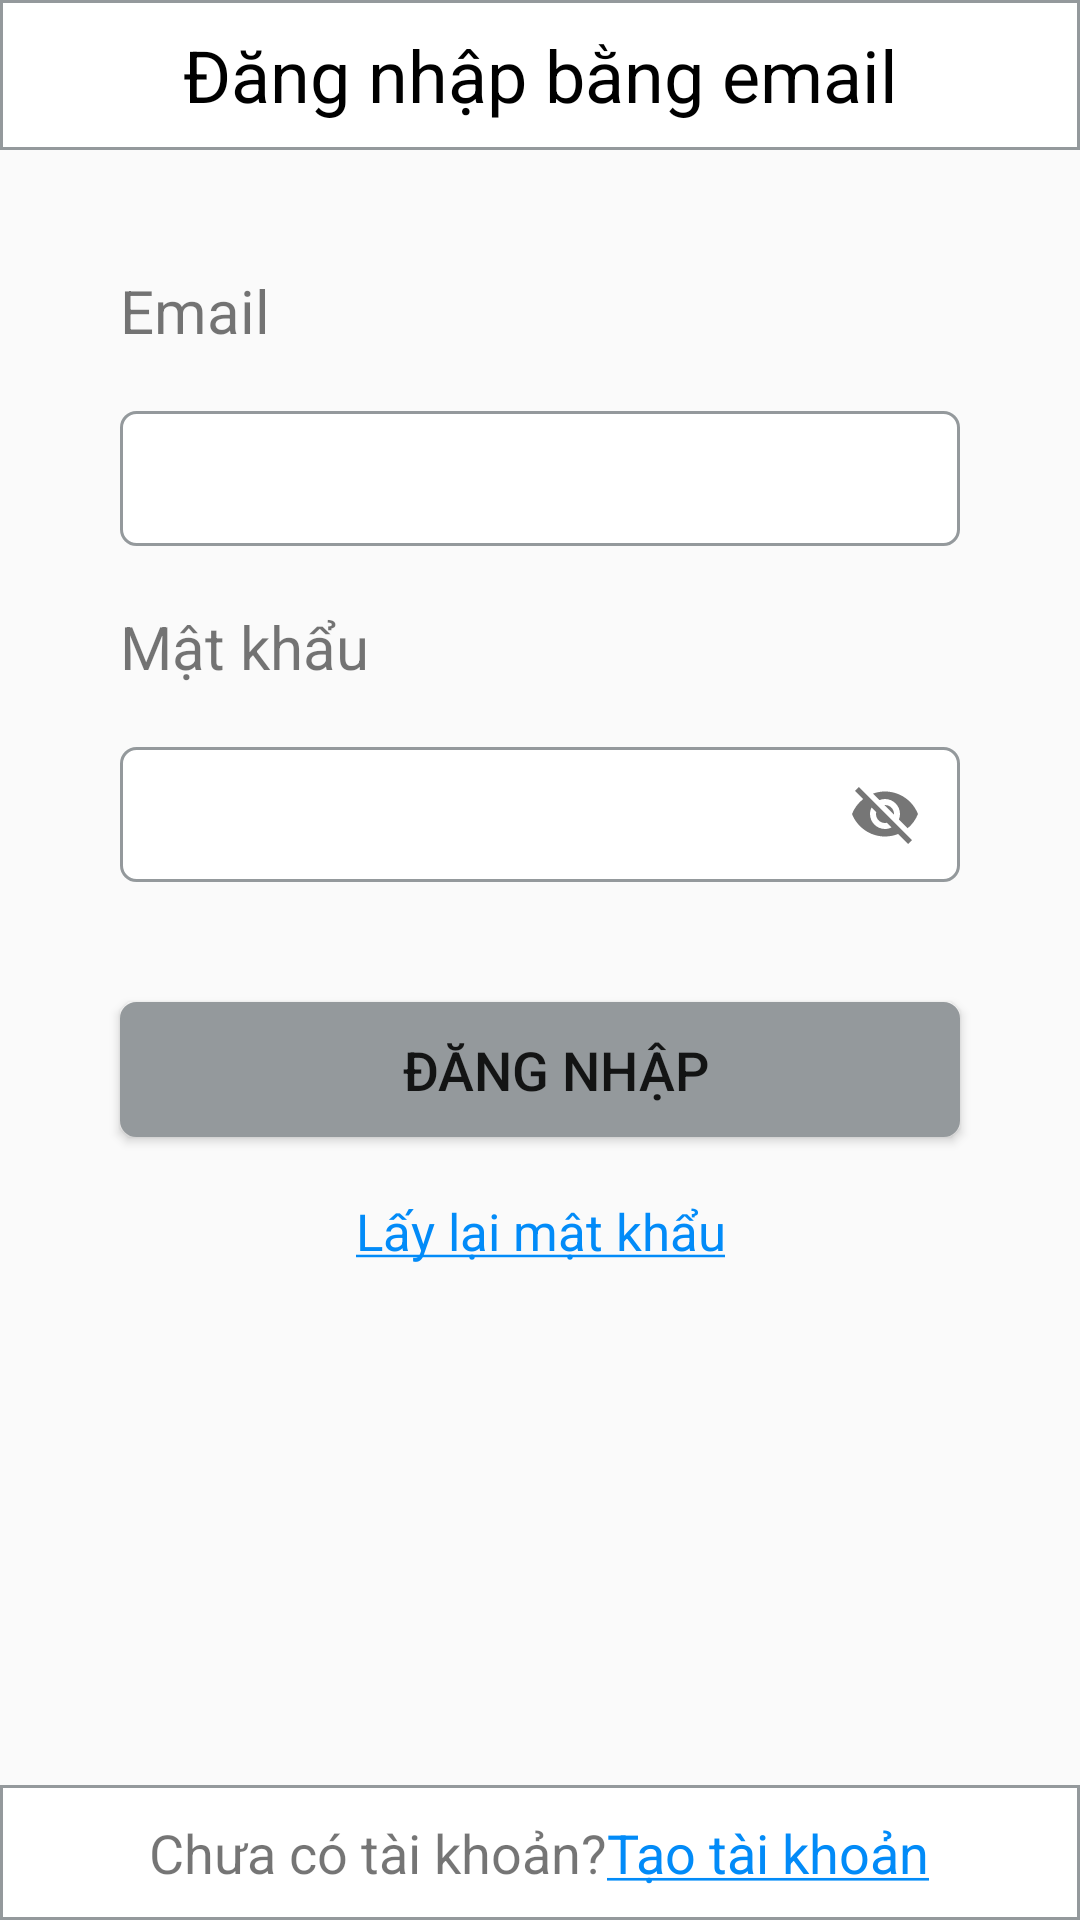

Screen size 1080*1920. Icon name, then its box in pixels as (x1, y1, x2, y2):
visibility off: (852, 787, 918, 844)
